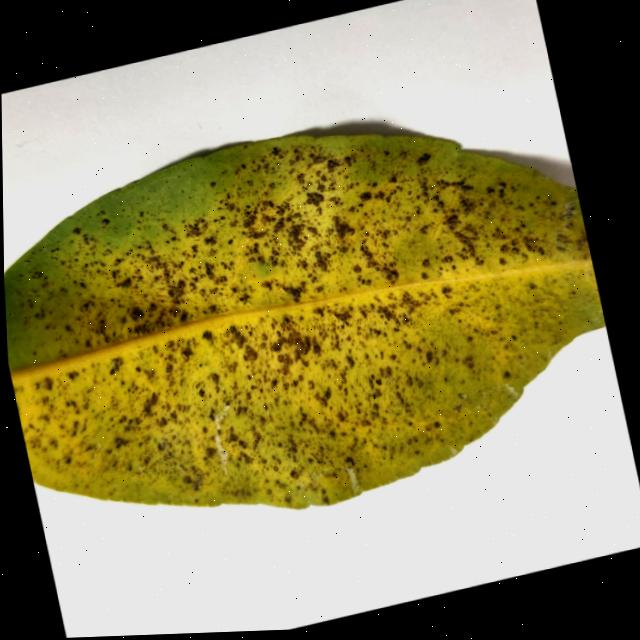melanose: (4, 133, 603, 507)
